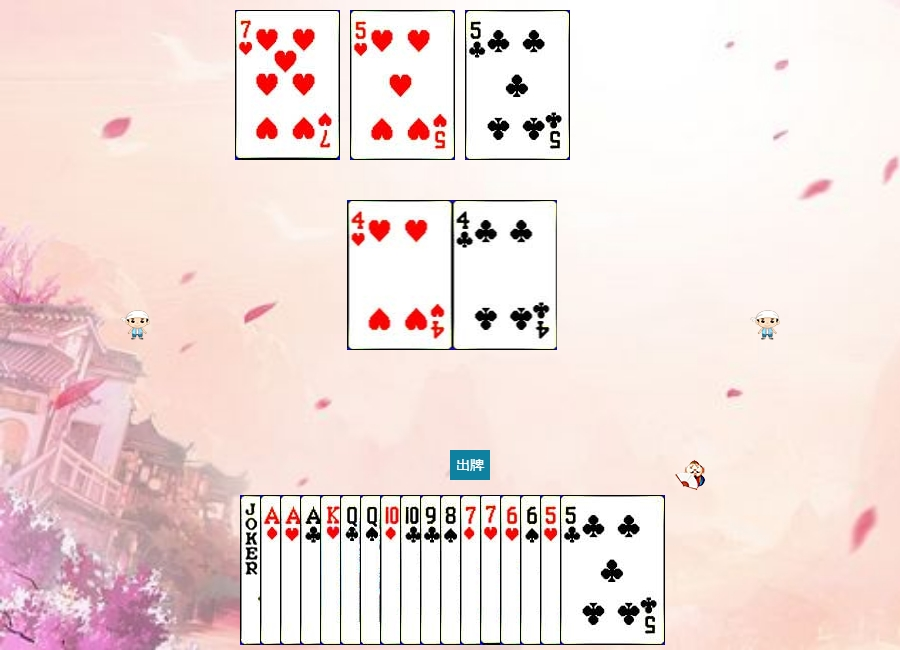10~1: (380, 495, 485, 645)
10~2: (400, 495, 505, 645)
12~2: (340, 495, 445, 645)
12~4: (360, 495, 465, 645)
13~3: (320, 495, 425, 645)
14~1: (260, 495, 365, 645)
14~2: (300, 495, 405, 645)
14~3: (280, 495, 385, 645)
17~3: (240, 495, 345, 645)
4~2: (453, 200, 558, 350)
4~3: (348, 200, 453, 350)
5~2: (465, 10, 570, 160), (560, 495, 665, 645)
5~3: (350, 10, 455, 160), (540, 495, 645, 645)
6~3: (500, 495, 605, 645)
6~4: (520, 495, 625, 645)
7~1: (460, 495, 565, 645)
7~3: (235, 10, 340, 160), (480, 495, 585, 645)
8~4: (440, 495, 545, 645)
9~2: (420, 495, 525, 645)
